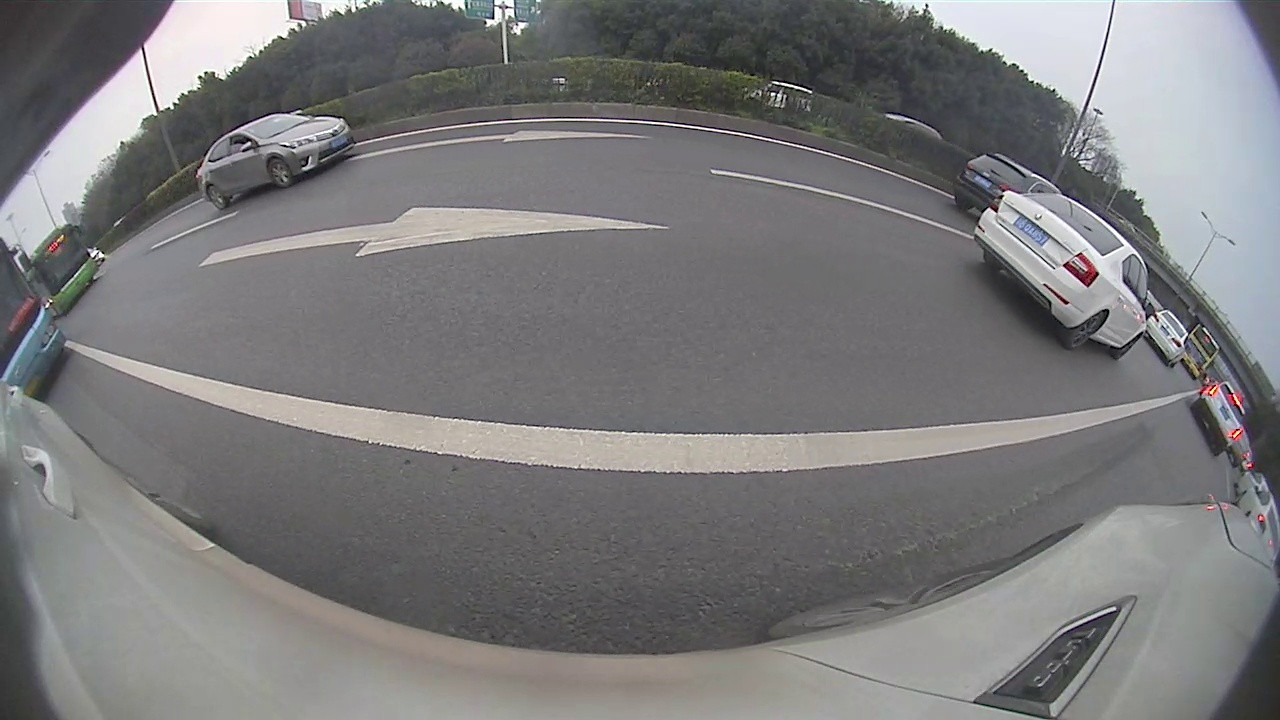bus: (25, 226, 101, 319), (1183, 324, 1223, 379)
car: (973, 191, 1151, 361), (191, 111, 355, 210), (954, 150, 1061, 213), (1195, 380, 1247, 458), (1145, 305, 1191, 368)
front: (267, 156, 293, 190)
rear: (1067, 310, 1106, 351), (207, 185, 228, 211)
